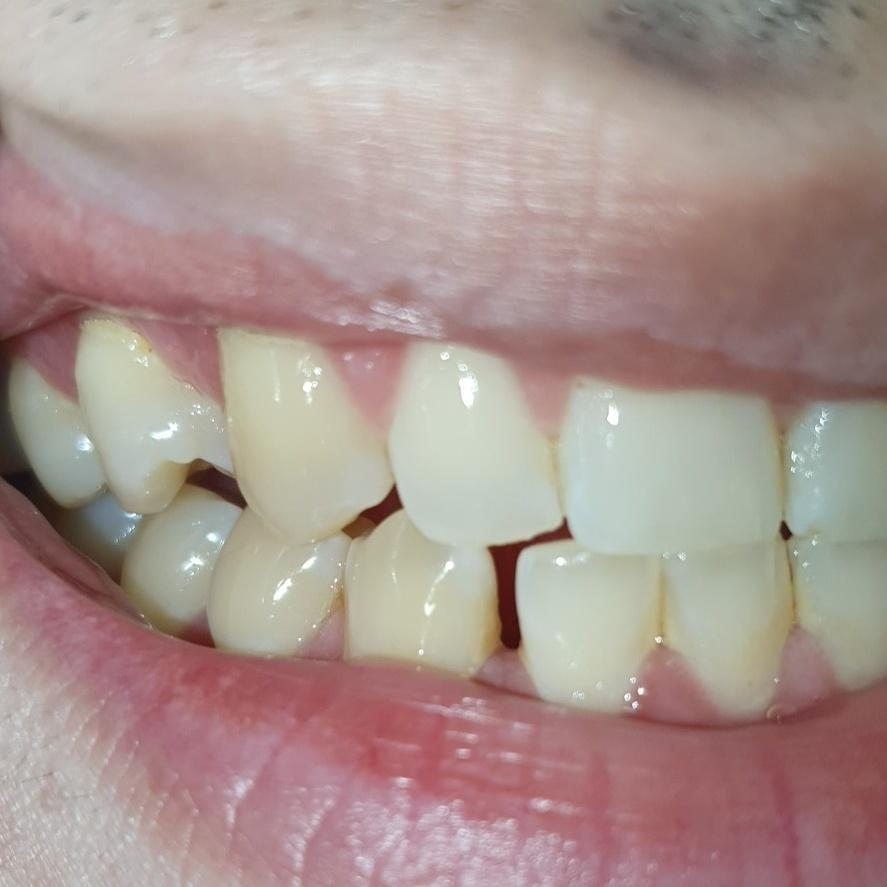Gap: (375, 541, 629, 679)
